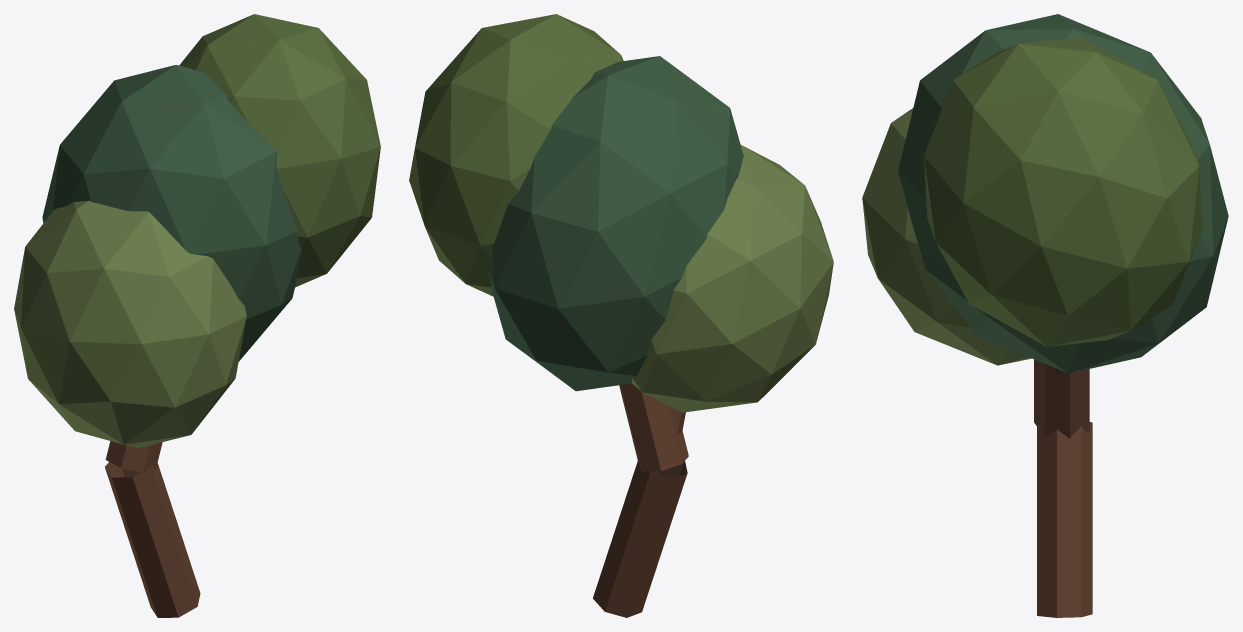
The picture shows the model from 3 angles, left to right: view 1: azimuth 30°, elevation 25°; view 2: azimuth 150°, elevation 25°; view 3: azimuth 270°, elevation 25°; orthographic projection. The views are drawn at different scales.
Visible parts, largest first — view 1: T23_绿荫小树; view 2: T23_绿荫小树; view 3: T23_绿荫小树.
Boxes of the visible parts, left/top/right/bottom form: T23_绿荫小树: left=14, top=14, right=380, bottom=617; T23_绿荫小树: left=409, top=14, right=833, bottom=617; T23_绿荫小树: left=862, top=14, right=1228, bottom=617.
Size of the model in its own units: 1.41 by 2.11 by 1.13.
